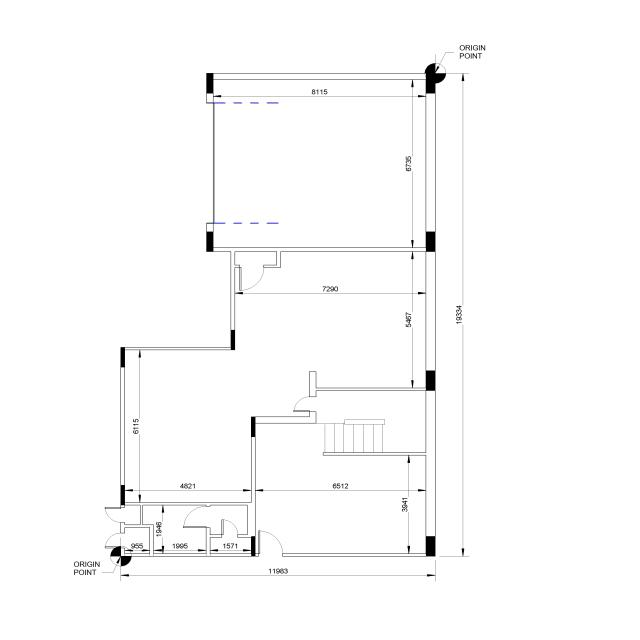Column: (423, 369, 437, 392), (424, 535, 437, 558), (424, 231, 437, 253), (204, 231, 216, 253), (425, 71, 436, 94), (205, 70, 215, 95), (118, 346, 127, 368), (229, 329, 237, 351), (250, 416, 258, 438), (120, 484, 127, 507), (250, 535, 256, 558)
Door: (236, 261, 267, 293), (257, 529, 284, 557), (181, 504, 208, 530), (289, 392, 313, 414), (219, 517, 240, 539), (103, 531, 123, 549), (104, 506, 123, 524)
Staircase: (321, 418, 390, 454)
